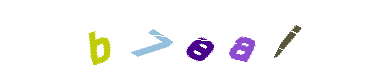7: (129, 0, 209, 80)
A: (190, 0, 270, 80)
B: (58, 0, 138, 80)
E: (152, 0, 232, 80)
J: (200, 0, 280, 80)
